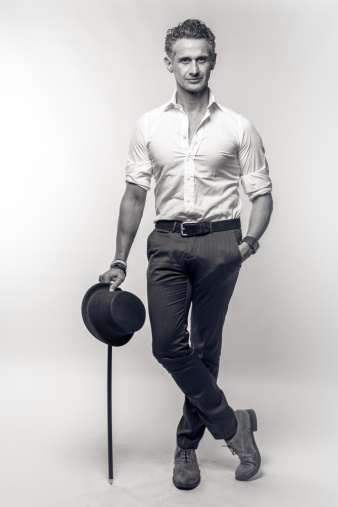em pe: (119, 17, 277, 472)
